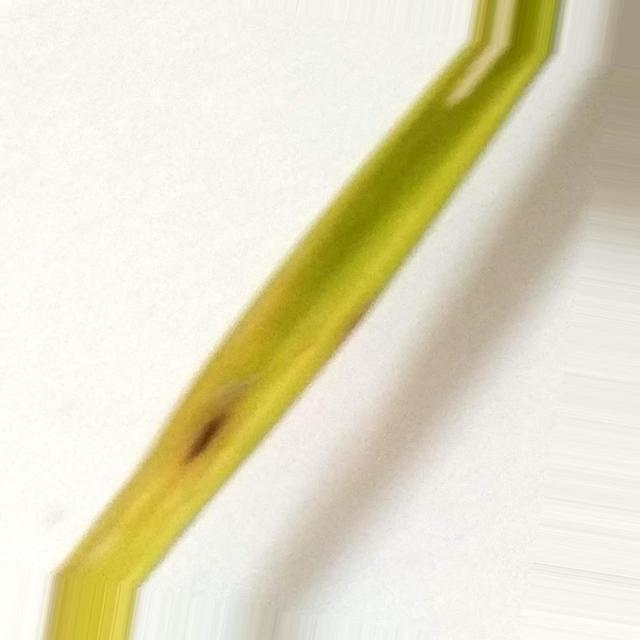Brown_Spot: (185, 414, 228, 462)
